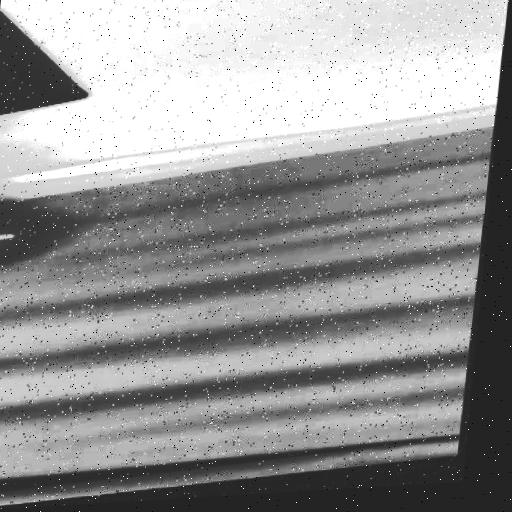balloon: (0, 193, 76, 273)
